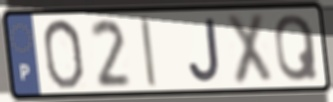2: (88, 17, 134, 90)
I: (138, 13, 159, 90)
J: (187, 16, 223, 85)
O: (40, 17, 86, 91)
Q: (273, 12, 321, 85)
X: (224, 11, 276, 87)
